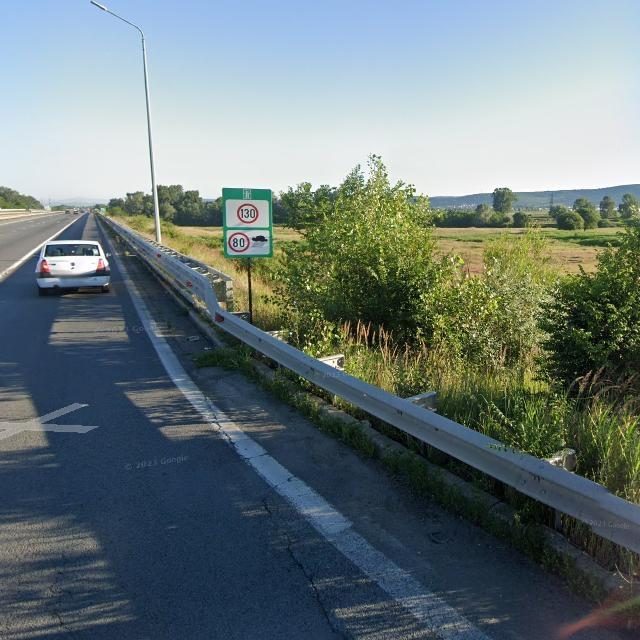forb_speed_over_80: (229, 232, 250, 252)
